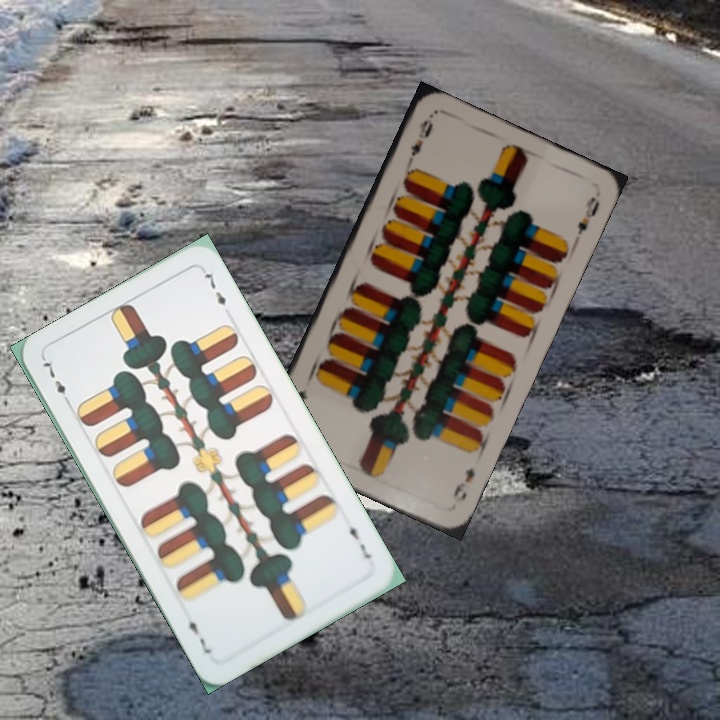E7: (38, 355, 74, 409), (344, 515, 374, 562)
E9: (403, 114, 436, 169), (449, 463, 478, 506)
